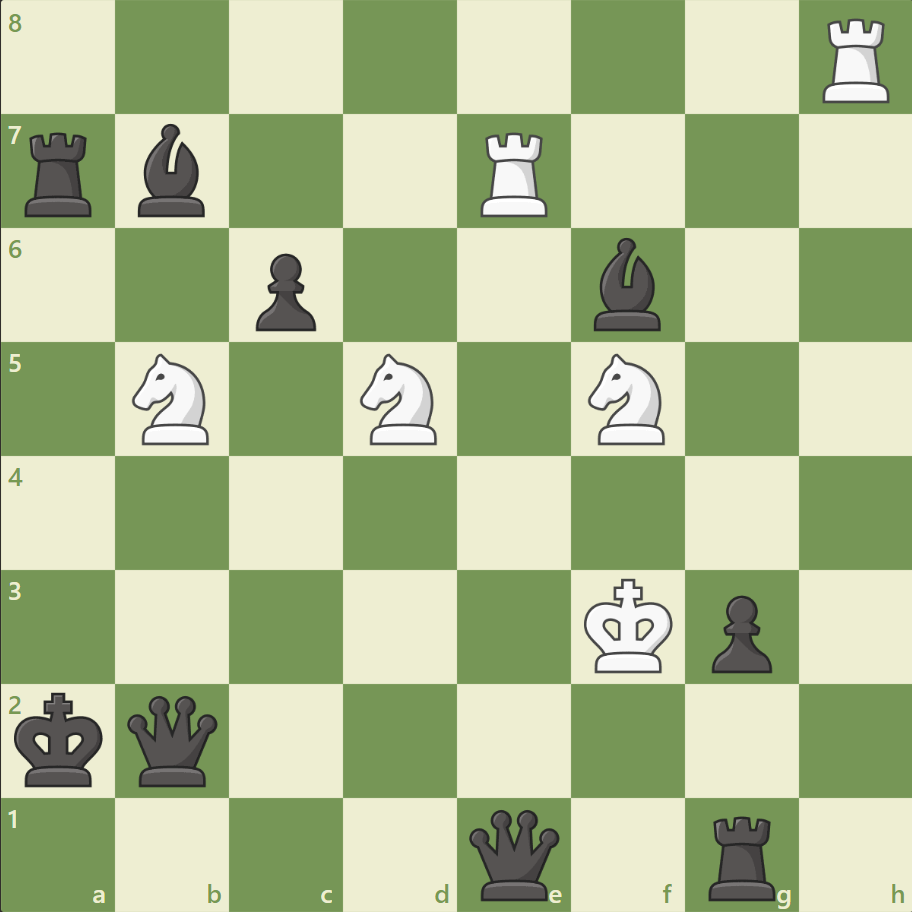K: (579, 571, 679, 679)
N: (124, 348, 222, 450), (351, 348, 449, 450), (579, 348, 676, 450)
R: (814, 12, 897, 109), (473, 125, 556, 222)
b: (585, 233, 669, 336), (131, 120, 215, 222)
k: (11, 685, 111, 793)
p: (247, 246, 322, 337), (701, 586, 776, 677)
q: (124, 690, 223, 789), (464, 804, 563, 903)
r: (700, 806, 783, 904), (19, 125, 102, 222)
